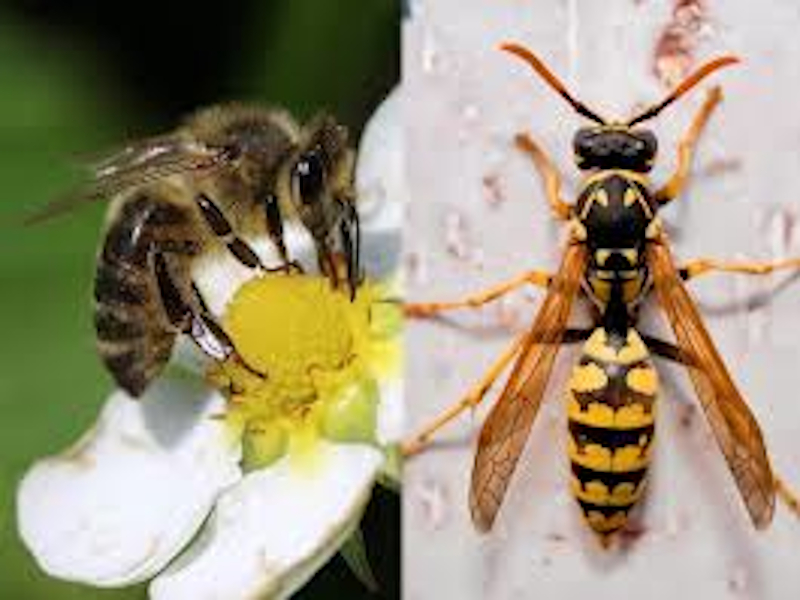abeja: (30, 86, 387, 406)
chax: (406, 24, 798, 564)
